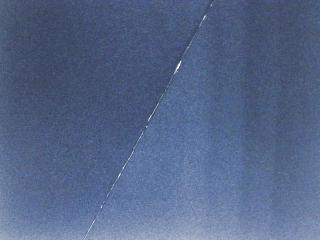crack: (83, 0, 216, 240)
